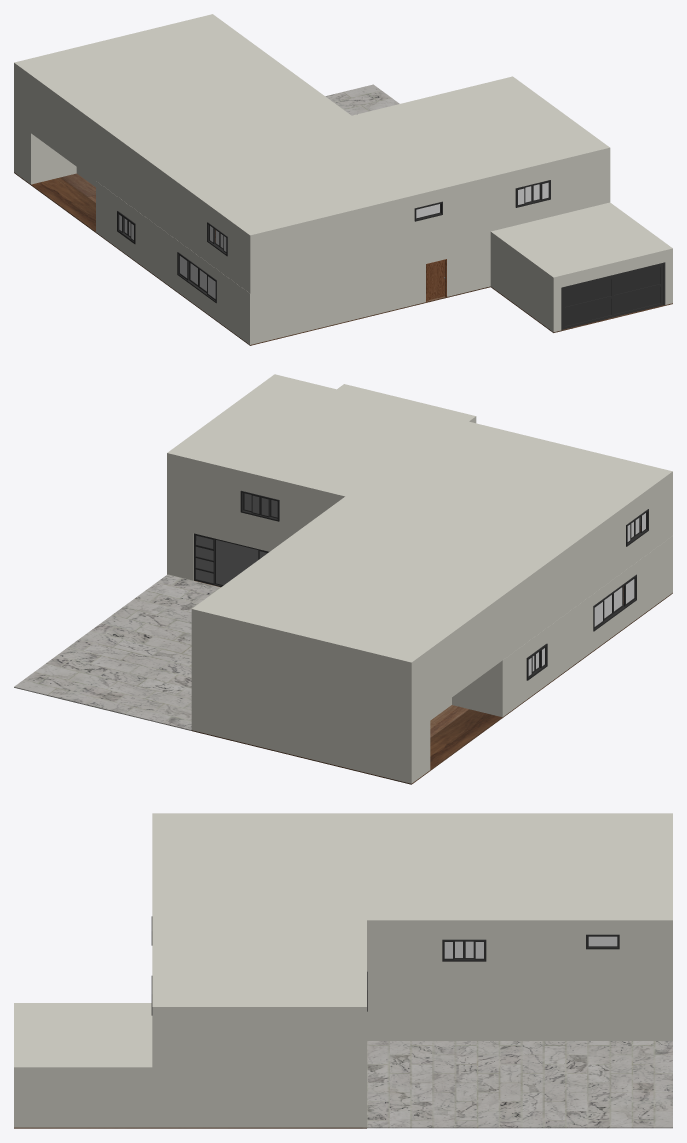
Rendered from casaVR.fbx.
3 views of the same model, one above another, from view 1: azimuth 30°, elevation 25°; view 2: azimuth 150°, elevation 25°; view 3: azimuth 270°, elevation 25° (orthographic). The views are drawn at different scales.
Parts seen in each view (by area): view 1: teto2, paredeexterna2, ParedeExterna1, teto1, Portao, chão, chãoJardim, JanelaCozinha, JanelaEscritorio, porta1; view 2: teto2, paredeexterna2, ParedeExterna1, chãoJardim, teto1, chão, ParedeExterna1.006, JanelaCozinha, PortaJardim_vidrosLaterais; view 3: teto2, ParedeExterna1, paredeexterna2, chãoJardim, teto1, JanelaQuartoPais, chão, JanelaNBanheiroQ1.
Boxes of the visible parts, x1,y1,x2,y2 form: teto2: [14, 14, 610, 238]; paredeexterna2: [14, 66, 610, 290]; ParedeExterna1: [14, 121, 672, 344]; teto1: [14, 117, 672, 293]; Portao: [561, 262, 665, 330]; chão: [14, 172, 672, 345]; chãoJardim: [325, 84, 399, 115]; JanelaCozinha: [177, 252, 216, 303]; JanelaEscritorio: [515, 180, 550, 207]; porta1: [427, 260, 445, 300]; teto2: [167, 374, 672, 666]; paredeexterna2: [167, 457, 672, 722]; ParedeExterna1: [167, 420, 672, 783]; chãoJardim: [14, 574, 220, 730]; teto1: [167, 384, 672, 726]; chão: [191, 580, 672, 784]; ParedeExterna1.006: [216, 540, 258, 585]; JanelaCozinha: [593, 574, 636, 631]; PortaJardim_vidrosLaterais: [196, 535, 213, 582]; teto2: [152, 813, 672, 1010]; ParedeExterna1: [14, 984, 672, 1127]; paredeexterna2: [152, 924, 672, 1067]; chãoJardim: [367, 1041, 672, 1128]; teto1: [14, 980, 672, 1070]; JanelaQuartoPais: [442, 939, 486, 961]; chão: [14, 1127, 366, 1128]; JanelaNBanheiroQ1: [586, 934, 619, 949].
Bounding box in the file's own units: 2206 × 645 × 3165.
